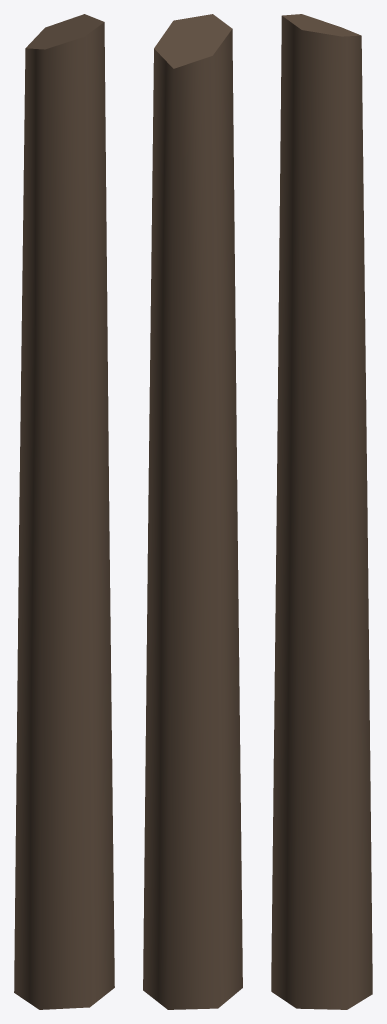
The model's file is fence-post-2.glb.
3 views of the same model, side by side, from view 1: azimuth 90°, elevation 25°; view 2: azimuth 150°, elevation 25°; view 3: azimuth 330°, elevation 25° (orthographic).
Visible parts, largest first — view 1: fence-post-2; view 2: fence-post-2; view 3: fence-post-2.
Part boxes in pixels (<box>): fence-post-2: <box>14,14,114,1009</box>; fence-post-2: <box>143,14,242,1009</box>; fence-post-2: <box>271,14,372,1009</box>.
Size of the model in its own units: 0.1216 by 1.49 by 0.14.
